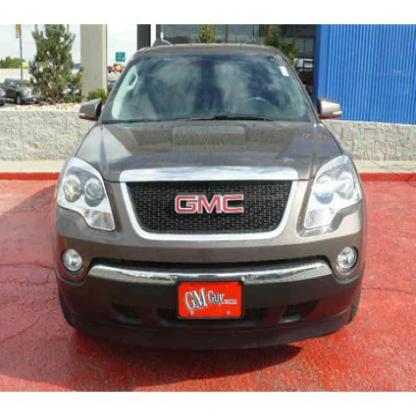Vehicle: (51, 47, 370, 355)
